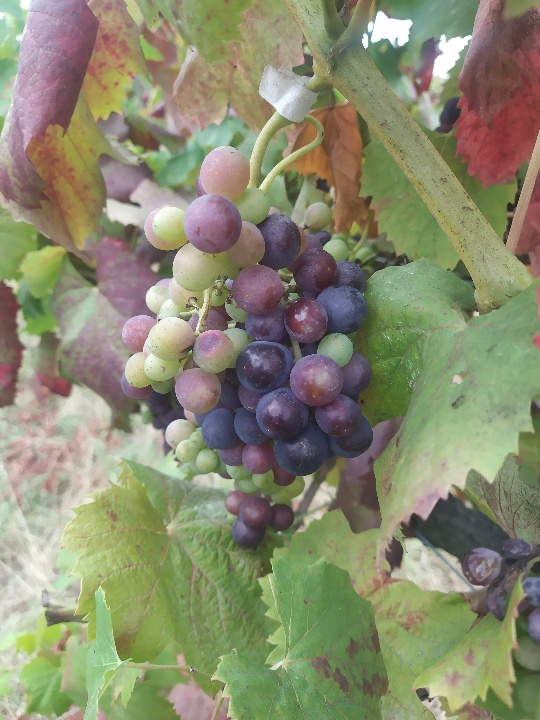grape: (118, 140, 384, 548)
